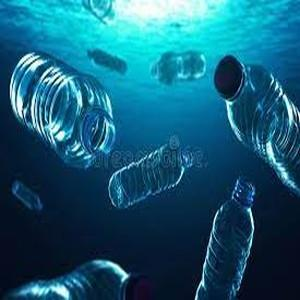Plastic: (10, 47, 116, 175), (215, 49, 300, 186), (196, 184, 256, 300), (109, 139, 200, 210), (151, 49, 207, 87)
